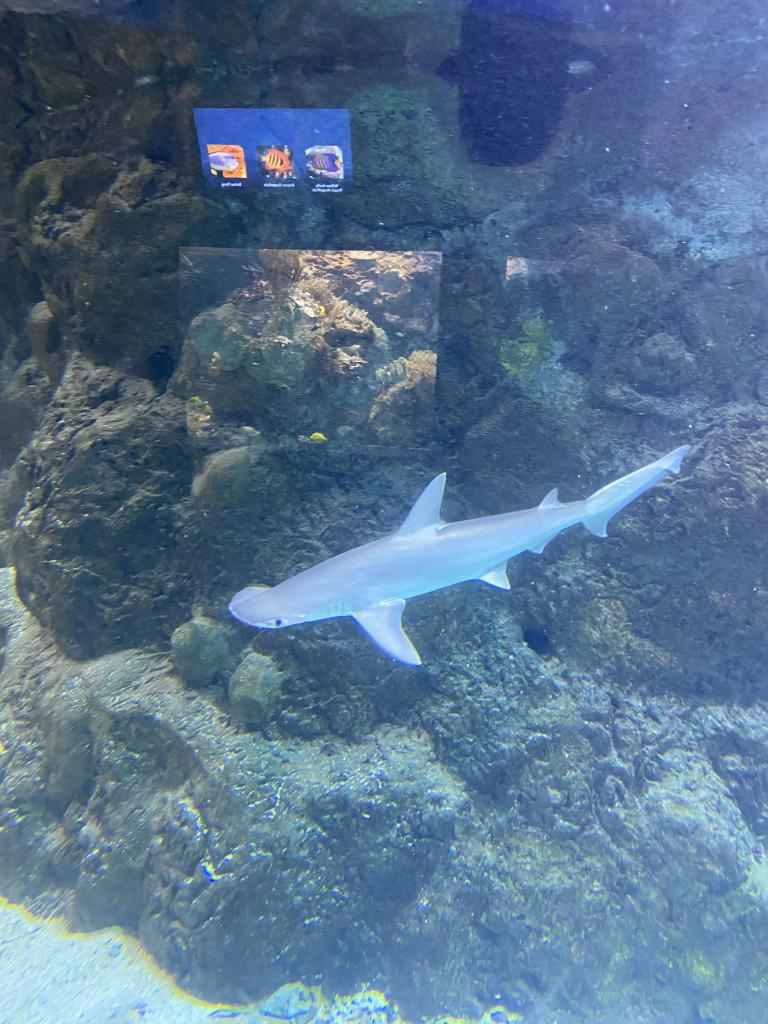shark: (227, 446, 691, 664)
